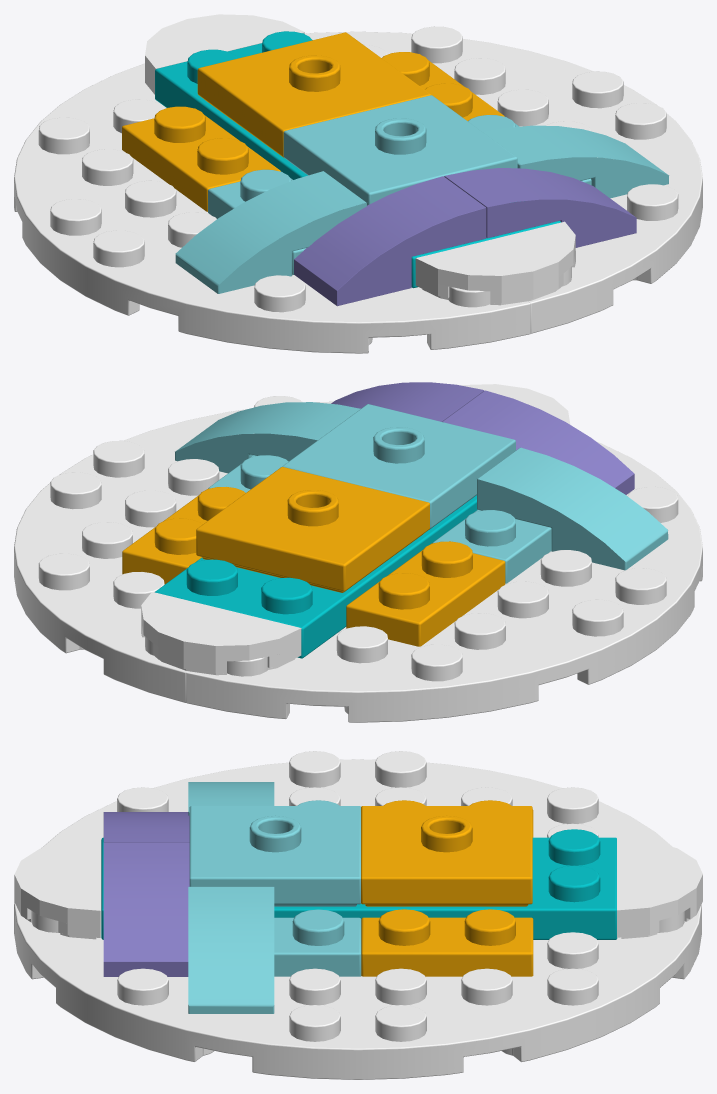
Rendered from Passo 7.fbx.
3 renders of one model, top to bottom at view 1: azimuth 30°, elevation 25°; view 2: azimuth 150°, elevation 25°; view 3: azimuth 270°, elevation 25°, orthographic.
Visible parts, largest first — view 1: Plate_round_4x8_1.005, Plate_round_4x8.006, Plate_special_2x2__1_.001, Plate_special_2x2.001, Slope_curved_2x1_Inverted__1_.003, Slope_curved_2x1__1_, Slope_curved_2x1_Inverted.003, Tile_round_1x2.004, Plate_1x2__3_.002, Slope_curved_2x1, Plate_2x6.006, Tile_round_1x2__1_.004 (+3 smaller); view 2: Plate_round_4x8_1.005, Plate_round_4x8.006, Plate_special_2x2__1_.001, Plate_special_2x2.001, Slope_curved_2x1__1_, Plate_2x6.006, Plate_1x2__3_.002, Tile_round_1x2__1_.004, Slope_curved_2x1, Slope_curved_2x1_Inverted__1_.003, Plate_1x2.002, Plate_1x2__2_.002 (+3 smaller); view 3: Plate_round_4x8.006, Plate_round_4x8_1.005, Plate_special_2x2__1_.001, Plate_special_2x2.001, Slope_curved_2x1_Inverted.003, Plate_2x6.006, Slope_curved_2x1, Plate_1x2.002, Tile_round_1x2.004, Tile_round_1x2__1_.004, Plate_1x2__1_.002, Slope_curved_2x1_Inverted__1_.003 (+1 smaller).
Part boxes in pixels (x1,y1,x2,y2): Plate_round_4x8_1.005: (14,63,530,353); Plate_round_4x8.006: (305,26,702,333); Plate_special_2x2__1_.001: (197,32,431,157); Plate_special_2x2.001: (283,95,517,205); Slope_curved_2x1_Inverted__1_.003: (294,176,486,306); Slope_curved_2x1__1_: (175,171,366,293); Slope_curved_2x1_Inverted.003: (444,168,636,247); Tile_round_1x2.004: (415,221,575,305); Plate_1x2__3_.002: (122,106,280,211); Slope_curved_2x1: (483,125,669,198); Plate_2x6.006: (155,31,560,288); Tile_round_1x2__1_.004: (145,14,304,94); Plate_round_4x8_1.005: (186,442,702,722); Plate_round_4x8.006: (14,396,332,702); Plate_special_2x2__1_.001: (196,467,429,592); Plate_special_2x2.001: (282,404,515,529); Slope_curved_2x1__1_: (477,447,668,570); Plate_2x6.006: (155,495,477,658); Plate_1x2__3_.002: (346,541,505,646); Tile_round_1x2__1_.004: (141,592,301,675); Slope_curved_2x1: (175,402,360,473); Slope_curved_2x1_Inverted__1_.003: (443,390,634,494); Plate_1x2.002: (122,487,245,584); Plate_1x2__2_.002: (433,510,551,583); Plate_round_4x8.006: (14,904,701,1079); Plate_round_4x8_1.005: (14,751,672,933); Plate_special_2x2__1_.001: (361,806,532,906); Plate_special_2x2.001: (189,806,360,906); Slope_curved_2x1_Inverted.003: (103,842,189,976); Plate_2x6.006: (101,829,617,939); Slope_curved_2x1: (188,886,274,1013); Plate_1x2.002: (361,909,533,976); Tile_round_1x2.004: (14,838,100,939); Tile_round_1x2__1_.004: (617,838,702,938); Plate_1x2__1_.002: (274,909,361,976); Slope_curved_2x1_Inverted__1_.003: (103,812,189,842).
Size of the model in its own units: 0.6392 by 0.1126 by 0.6409.
